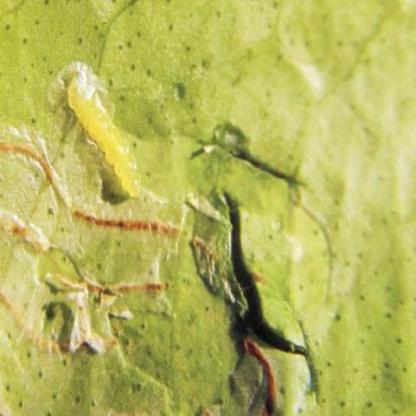armyworm: (62, 69, 147, 202)
